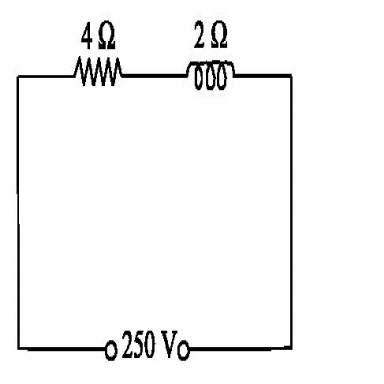Inductor: (183, 60, 236, 90)
Resistor: (70, 55, 124, 86)
